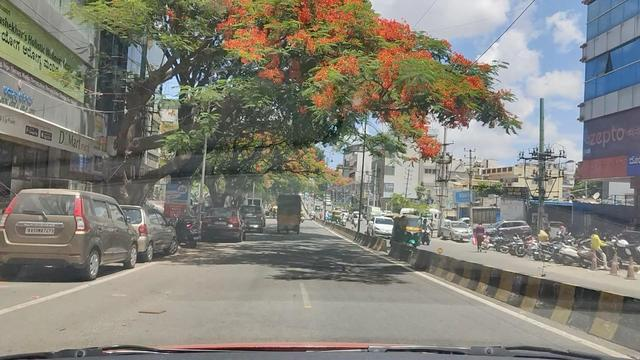HMV: (274, 194, 301, 233)
LMV: (0, 187, 88, 277)
